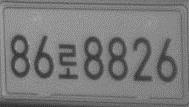2: (131, 36, 154, 83)
6: (155, 37, 178, 83), (33, 35, 54, 79)
8: (106, 36, 128, 81), (83, 35, 104, 80), (9, 34, 30, 77)
로: (57, 43, 79, 81)
